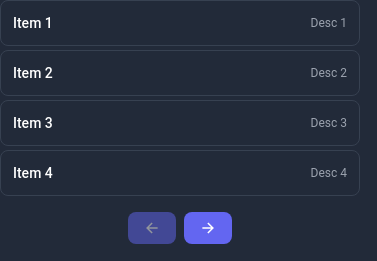
Scenario: PagableList Component › correctly updates the page on pagination
Expected: the text "Item 1" is shown, x1=13 y1=13 x2=53 y2=33
Expected: the text "Item 6" is not shown
Note: Clicking next
Click the button named "next" at coordinates (208, 228), box x1=184 y1=212 x2=232 y2=244
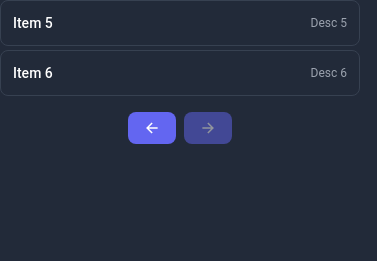
Expected: the text "Item 1" is gone
Expected: the text "Item 6" is shown, x1=13 y1=63 x2=53 y2=83
Note: Clicking previous
Click the button named "back" at coordinates (152, 128), box x1=128 y1=112 x2=176 y2=144
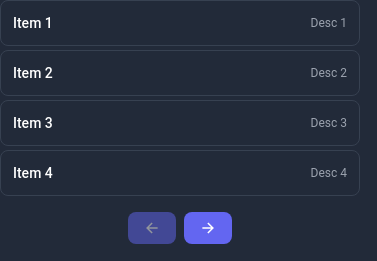
Expected: the text "Item 1" is shown, x1=13 y1=13 x2=53 y2=33
Expected: the text "Item 6" is gone
